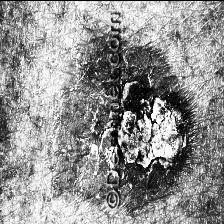Potentially Malignant Skin Tumors: (124, 42, 190, 199)
